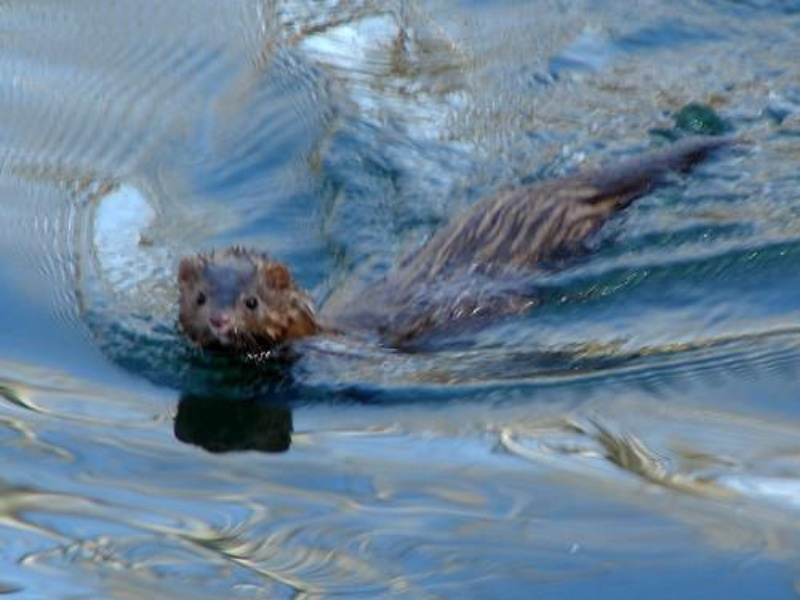minkish: (175, 132, 747, 359)
